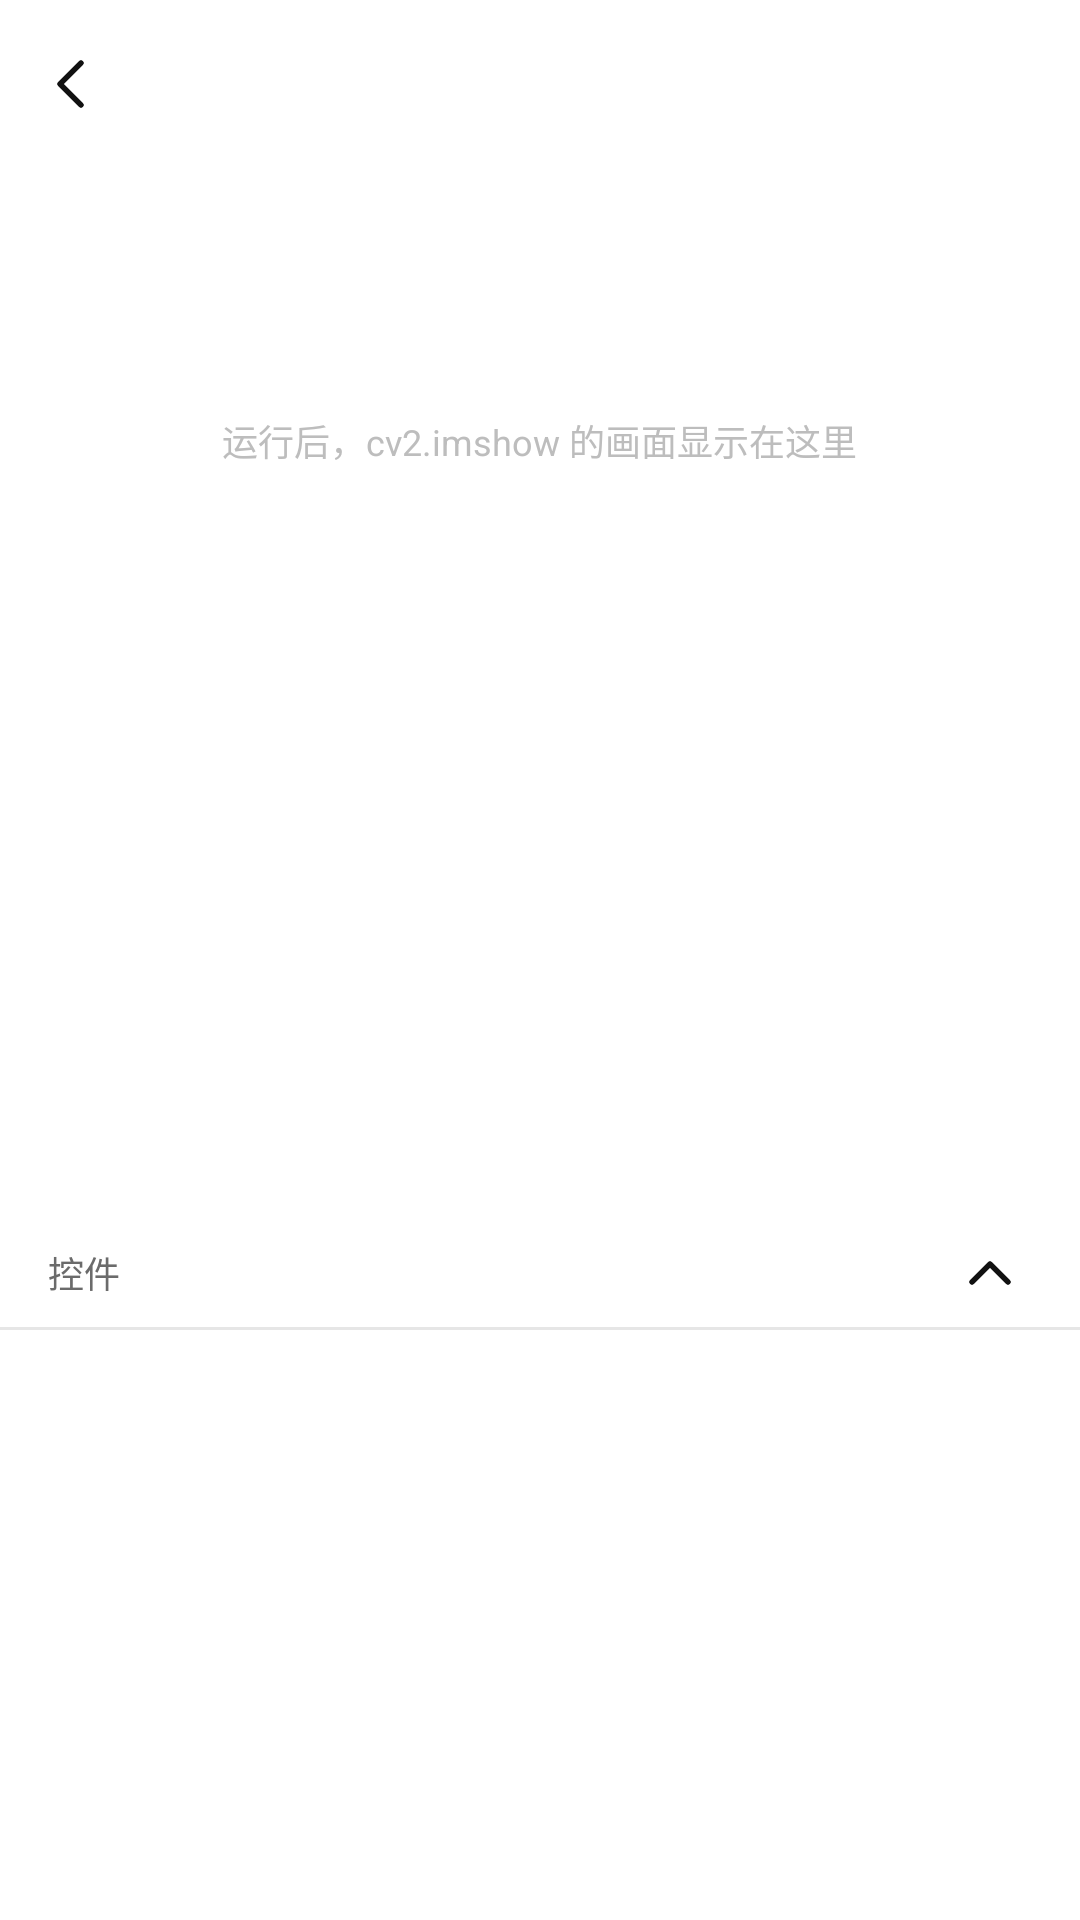

Where to tap for icons on this 1080 × 1920 app screen, as (x,y):
返回: (70,84)
